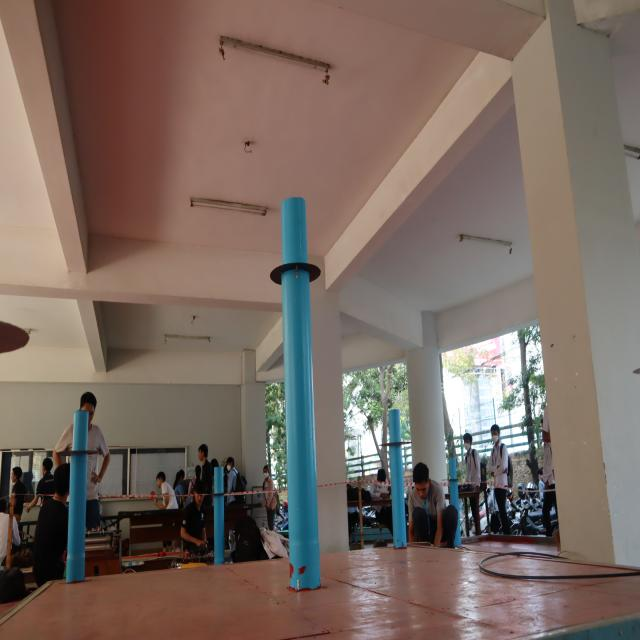pole: (258, 190, 328, 334), (59, 408, 103, 503), (377, 409, 415, 468), (207, 457, 235, 513)
